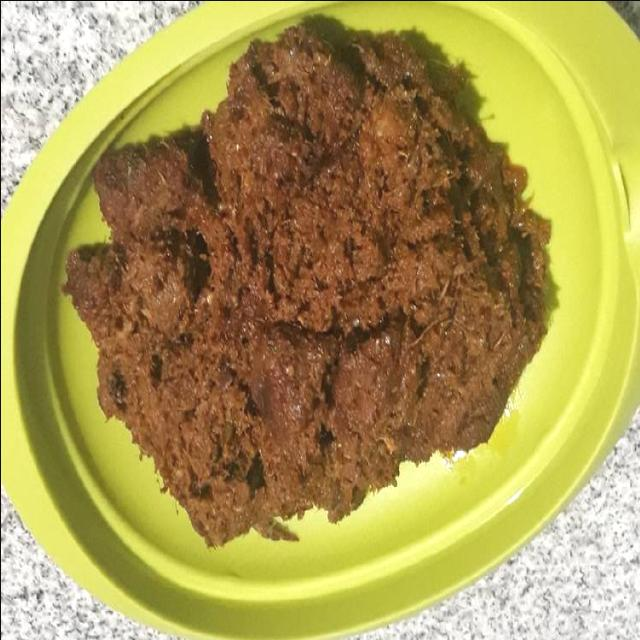rendang: (61, 14, 554, 545)
